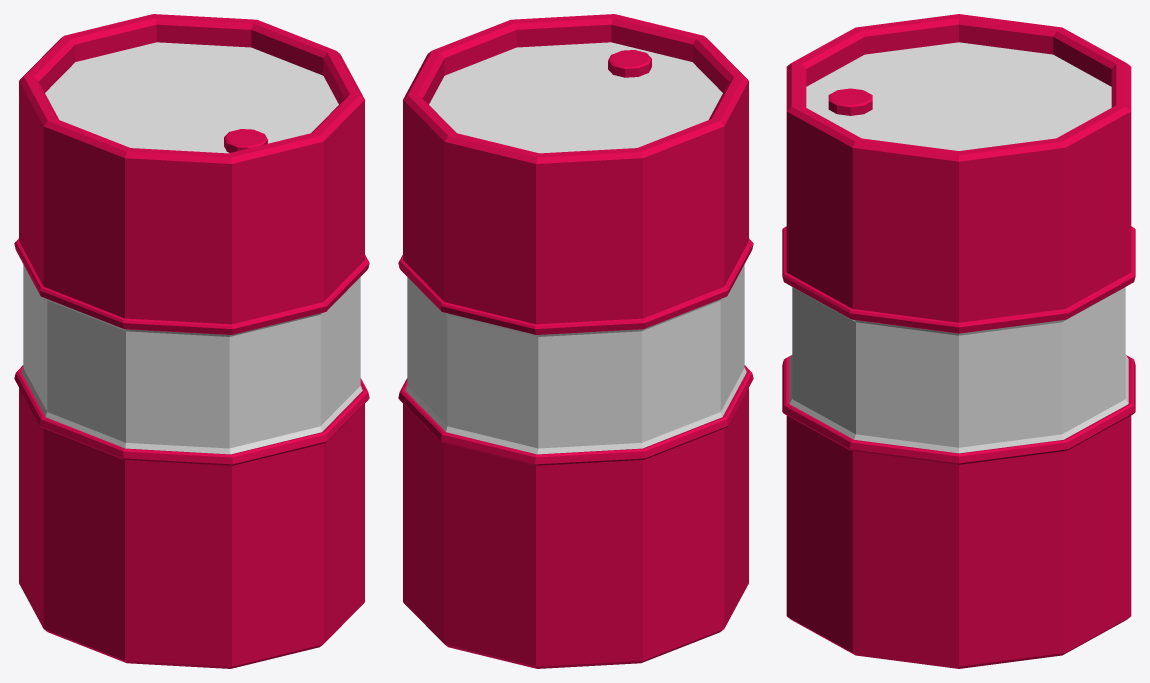
Rendered from Barrel_revisited.fbx.
3 renders of one model, left to right at view 1: azimuth 30°, elevation 25°; view 2: azimuth 150°, elevation 25°; view 3: azimuth 270°, elevation 25°, orthographic.
Parts seen in each view (by area): view 1: BarrelBase, Barrel_Detail; view 2: BarrelBase, Barrel_Detail; view 3: BarrelBase, Barrel_Detail.
Part boxes in pixels (box(x1,y1,x2,y2)): BarrelBase: box(14, 14, 369, 668); Barrel_Detail: box(224, 129, 267, 152); BarrelBase: box(398, 14, 753, 668); Barrel_Detail: box(608, 50, 651, 77); BarrelBase: box(782, 14, 1135, 668); Barrel_Detail: box(828, 88, 872, 115).
Size of the model in its own units: 57.15 by 91.63 by 57.15.
